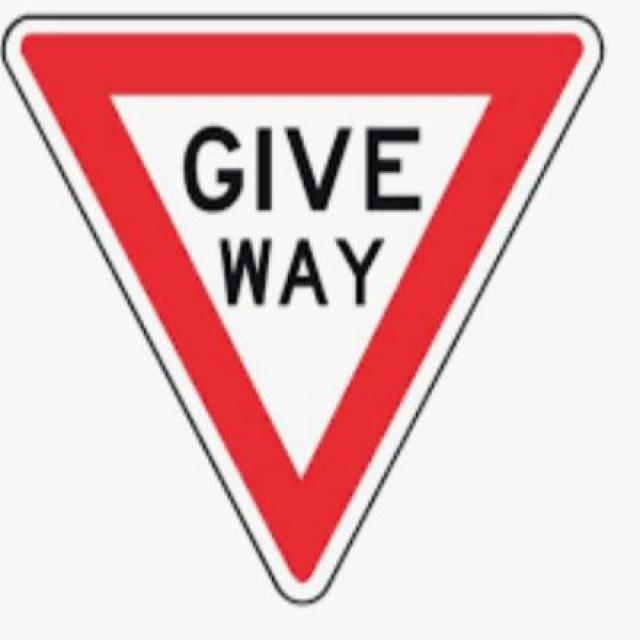giveway: (4, 11, 640, 604)
